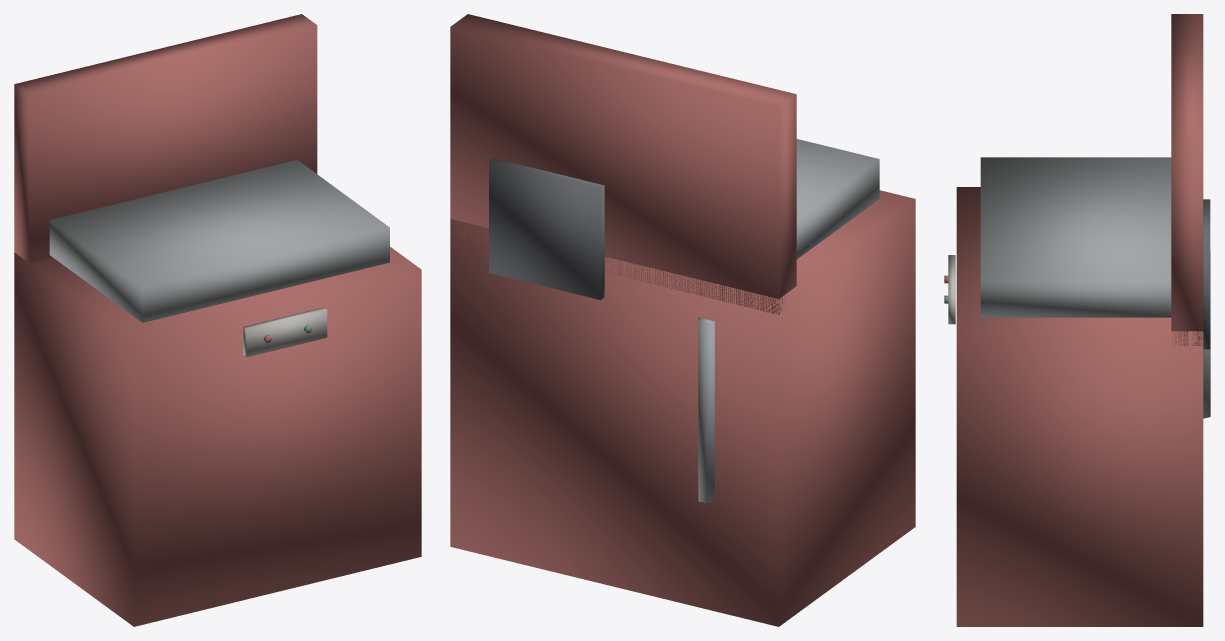
The model's file is parts_washer__service.glb.
The picture shows the model from 3 angles, left to right: view 1: azimuth 30°, elevation 25°; view 2: azimuth 150°, elevation 25°; view 3: azimuth 270°, elevation 25°; orthographic projection. The views are drawn at different scales.
Parts seen in each view (by area): view 1: world; view 2: world; view 3: world.
Boxes of the visible parts, x1,y1,x2,y2 form: world: (14, 14, 421, 626); world: (450, 14, 915, 626); world: (944, 14, 1210, 626).
Size of the model in its own units: 0.86 by 1.3 by 0.6696.
